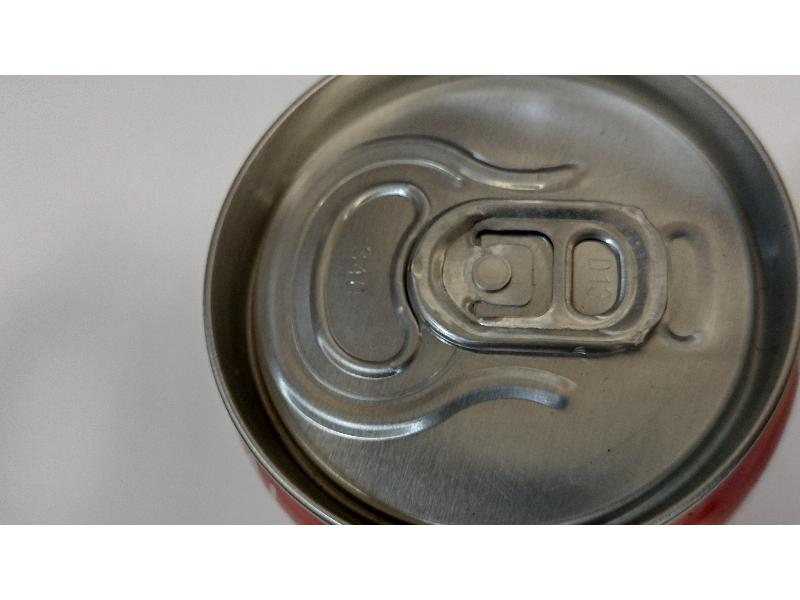can: (199, 76, 798, 524)
